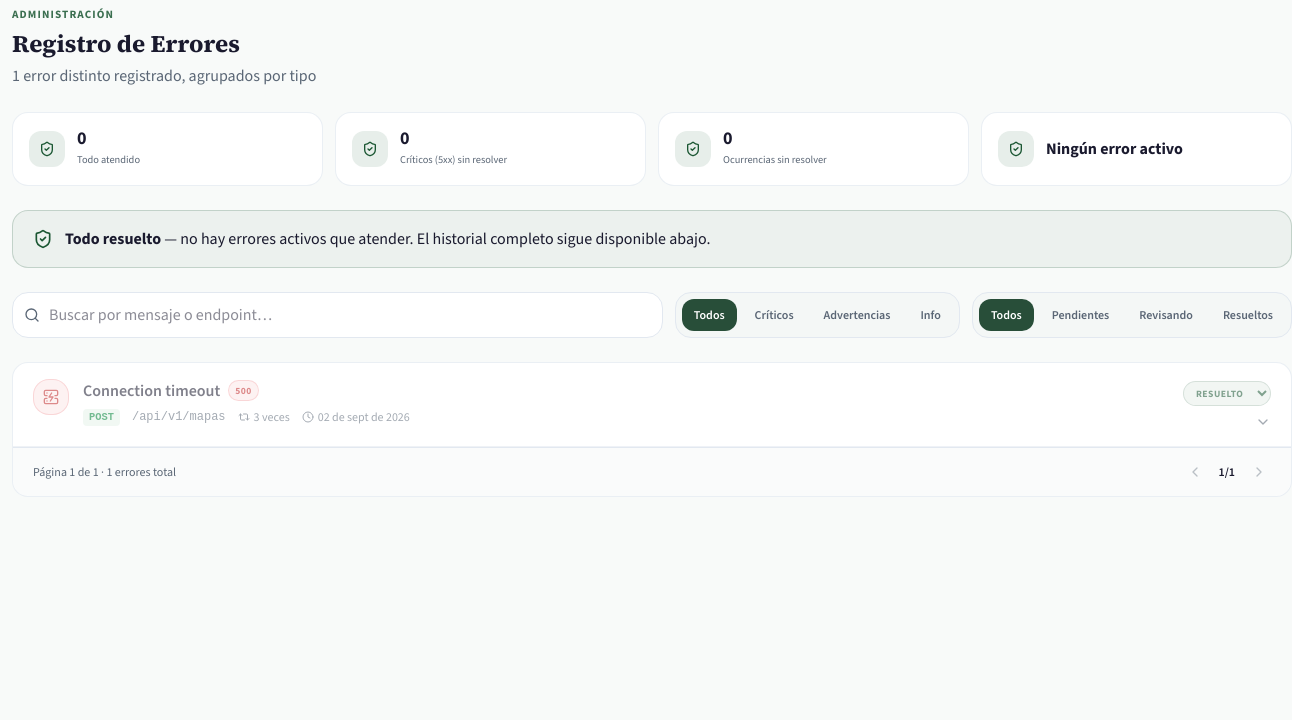
Errores — estado de seguimiento › el detalle expandido muestra quién y cuándo actualizó el estado, si aplica
Click the button "Connection timeout" at [51, 397], box [33, 378, 1169, 426]
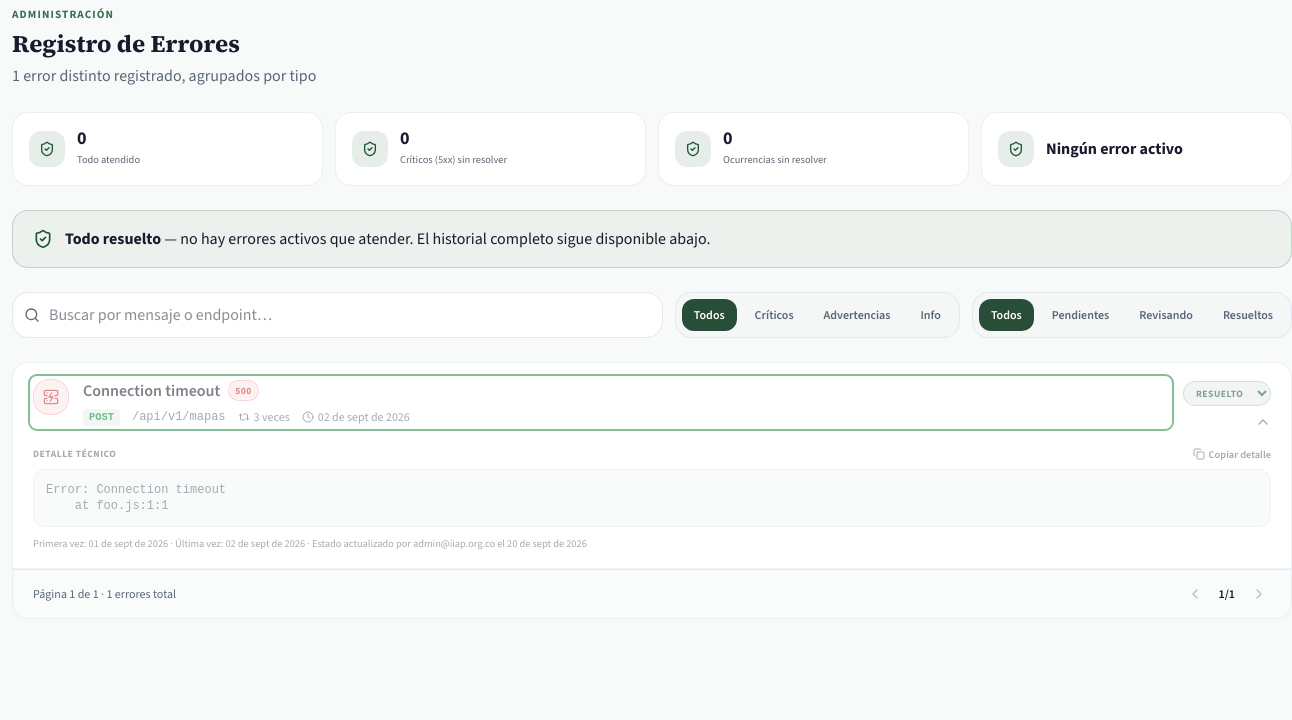
Result: the text "Estado actualizado por admin@iiap.org.co" is shown at [305, 537, 587, 550]
